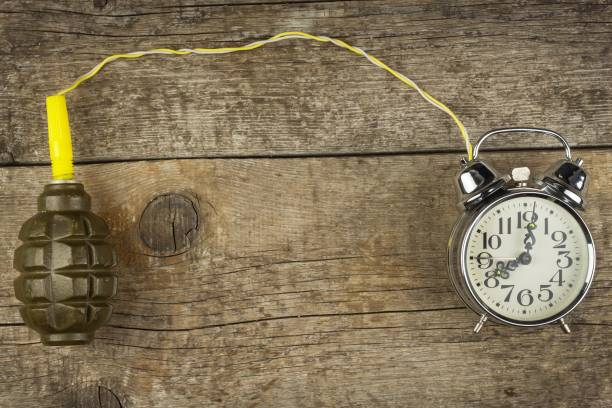e1: (10, 171, 124, 352)
